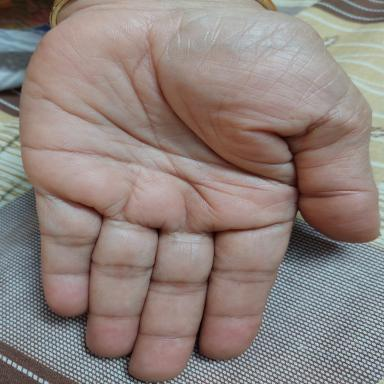normal skin: (20, 0, 379, 382)
